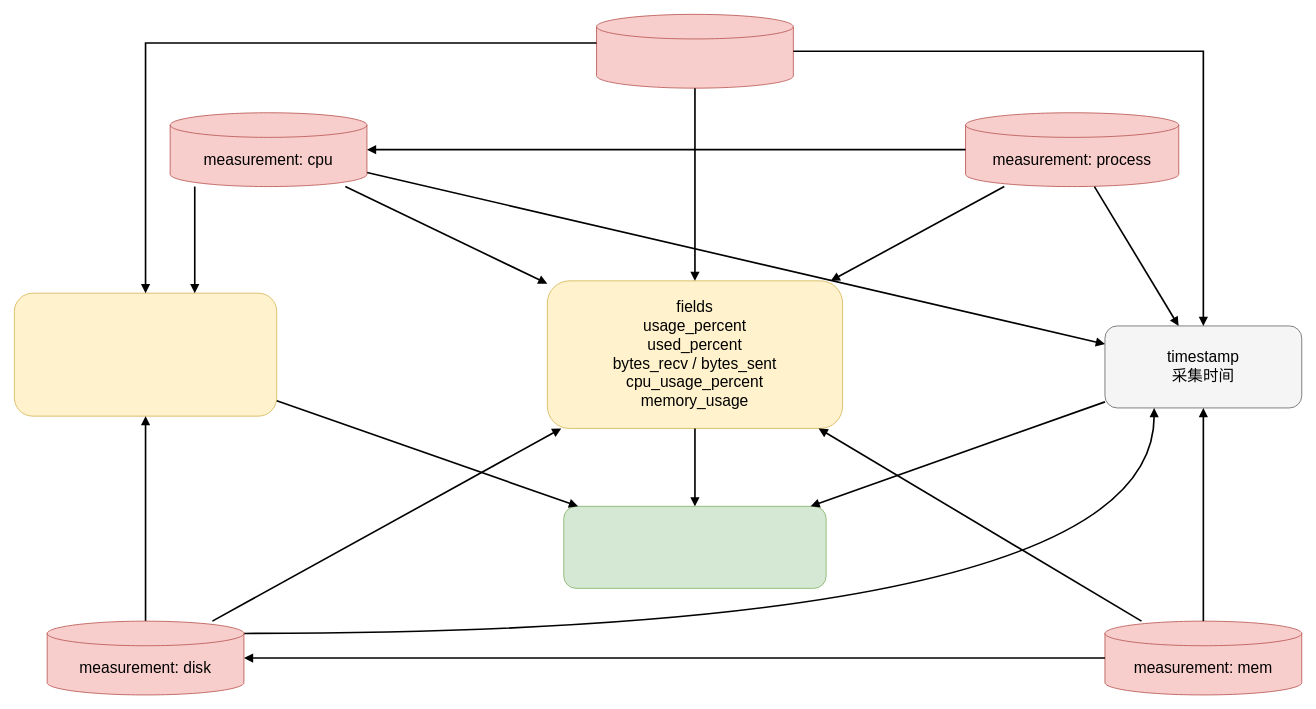
This 1316x709 diagram has some shape labels left out. Each missing label, with the centre of its shape:
"measurement: net" belongs at point (694, 51).
"tags host role query_host path / interface / process" belongs at point (145, 354).
"查询维度 对象 + 指标 + 时间范围" belongs at point (694, 547).
